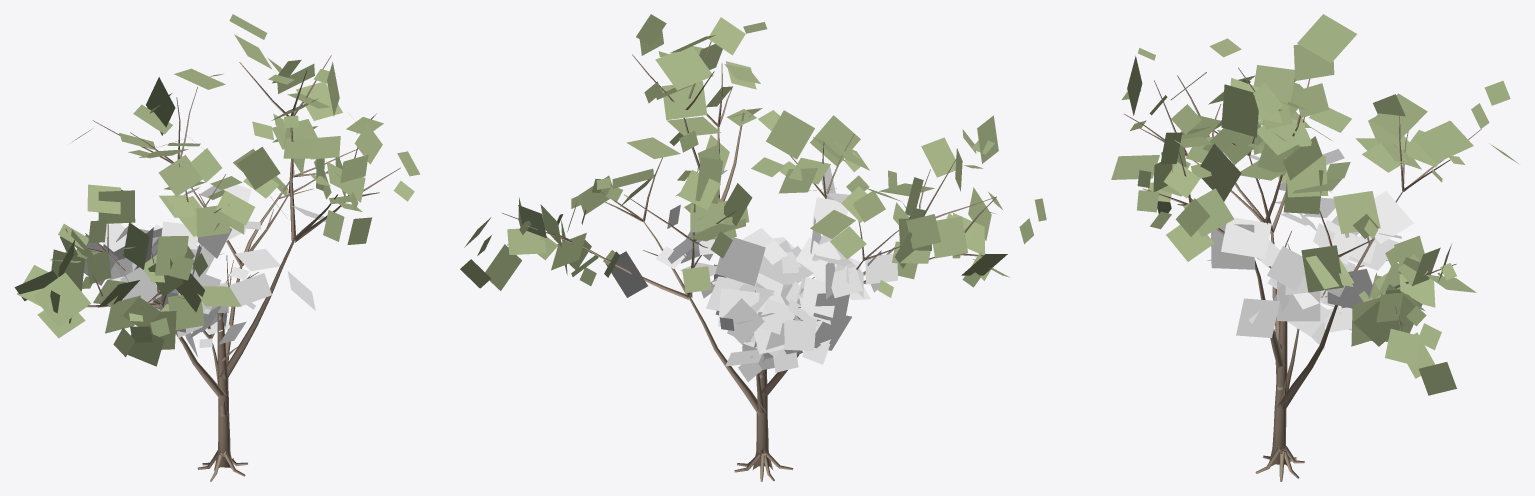
Rendered from tree-d-far.glb.
The picture shows the model from 3 angles, left to right: view 1: azimuth 30°, elevation 25°; view 2: azimuth 150°, elevation 25°; view 3: azimuth 270°, elevation 25°; orthographic projection. The views are drawn at different scales.
Visible parts, largest first — view 1: leafB, leafBDeep, wood; view 2: leafB, leafBDeep, wood; view 3: leafB, leafBDeep, wood.
Boxes of the visible parts, x1,y1,x2,y2 form: leafB: (14,14,420,366); leafBDeep: (77,184,326,356); wood: (69,55,400,481); leafB: (460,14,1046,297); leafBDeep: (605,166,897,381); wood: (502,41,996,481); leafB: (1111,14,1519,395); leafBDeep: (1207,149,1413,349); wood: (1124,67,1481,481).
Bounding box in the file's own units: 10.53 × 9.3 × 8.03.
